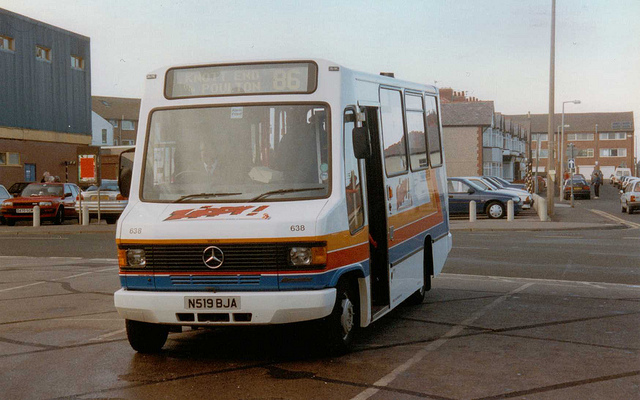Bus: (114, 64, 456, 339)
